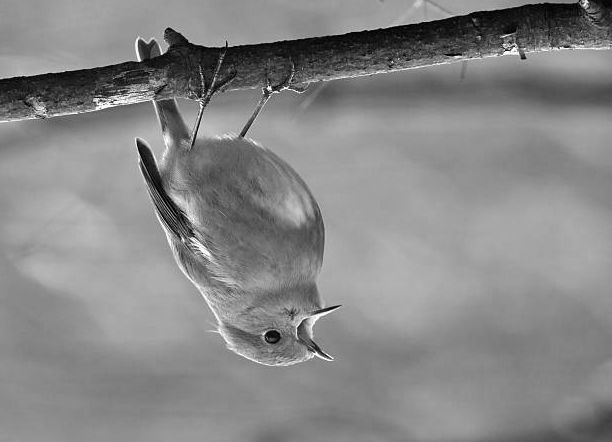Bird: (130, 34, 343, 371)
